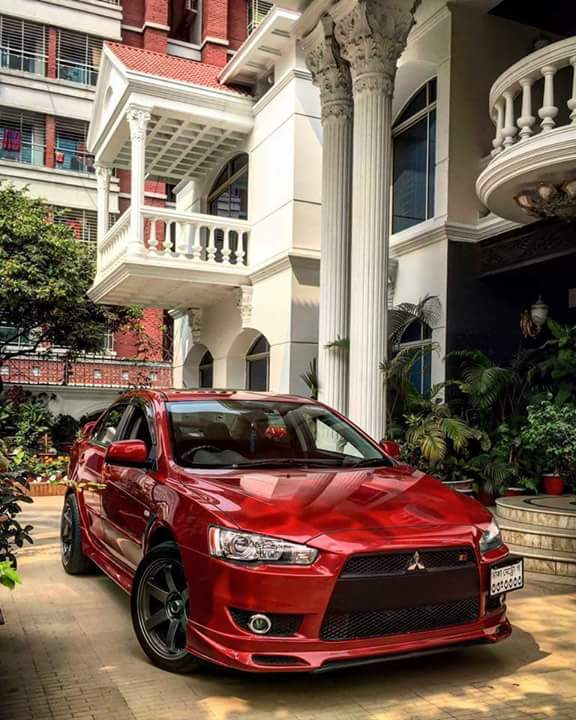registration_plate: (489, 560, 524, 595)
